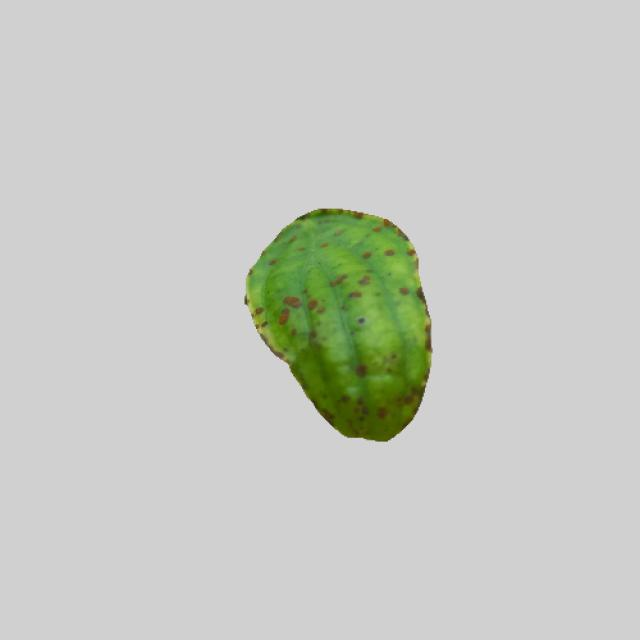yellow-mottle-virus: (232, 200, 432, 443)
